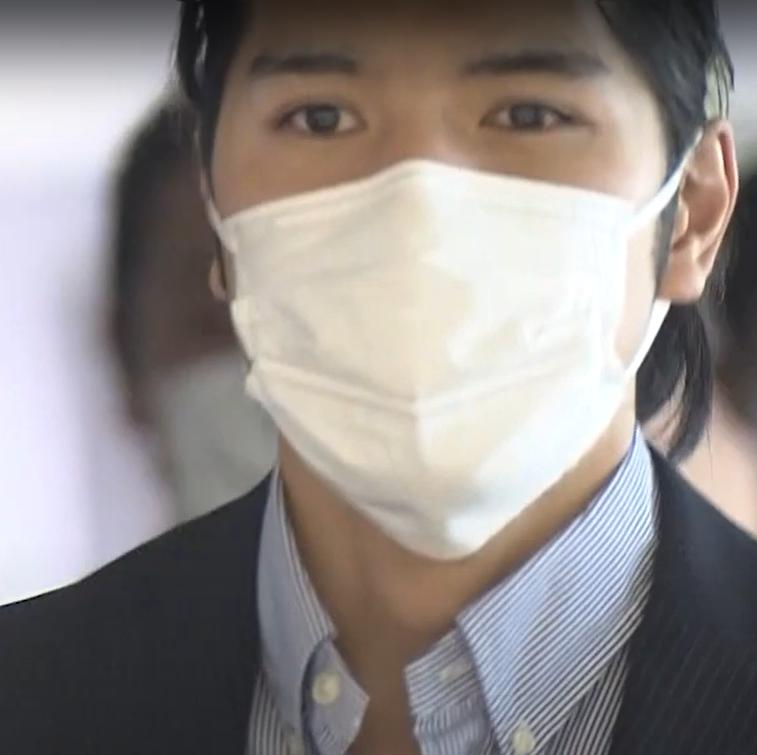with_mask: (272, 52, 611, 453), (146, 249, 255, 500)
